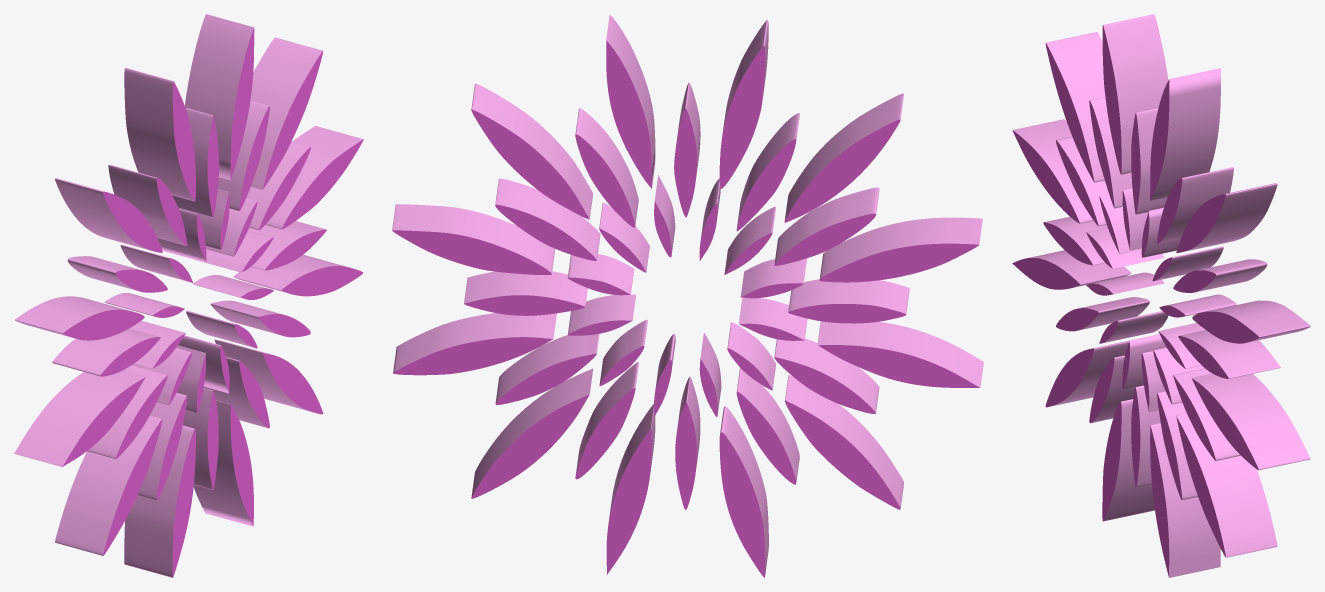
The model's file is svg3.glb.
3 views of the same model, side by side, from view 1: azimuth 30°, elevation 25°; view 2: azimuth 150°, elevation 25°; view 3: azimuth 270°, elevation 25° (orthographic). The views are drawn at different scales.
Visible parts, largest first — view 1: Curve.021, Curve.004, Curve.013, Curve.001, Curve.014, Curve.031, Curve.022, Curve.034, Curve.003, Curve, Curve.032, Curve.009 (+24 smaller); view 2: Curve.034, Curve.001, Curve, Curve.035, Curve.031, Curve.004, Curve.032, Curve.003, Curve.014, Curve.021, Curve.033, Curve.002 (+24 smaller); view 3: Curve.032, Curve.021, Curve.013, Curve.035, Curve.022, Curve.003, Curve.031, Curve.014, Curve, Curve.034, Curve.033, Curve.025 (+24 smaller).
Part boxes in pixels (x1,y1,x2,y2): Curve.021: (185, 14, 254, 180); Curve.004: (55, 415, 162, 555); Curve.013: (124, 67, 195, 201); Curve.001: (14, 370, 145, 466); Curve.014: (124, 425, 195, 577); Curve.031: (250, 37, 323, 189); Curve.022: (193, 400, 253, 526); Curve.034: (265, 126, 363, 229); Curve.003: (55, 178, 162, 252); Curve: (15, 296, 144, 340); Curve.032: (214, 339, 323, 414); Curve.009: (108, 164, 187, 245); Curve.034: (392, 204, 555, 274); Curve.001: (817, 321, 983, 387); Curve: (819, 217, 982, 282); Curve.035: (393, 313, 556, 375); Curve.031: (471, 83, 593, 219); Curve.004: (785, 375, 903, 509); Curve.032: (471, 368, 593, 498); Curve.003: (784, 93, 903, 222); Curve.014: (719, 406, 768, 577); Curve.021: (606, 14, 655, 188); Curve.033: (464, 271, 587, 315); Curve.002: (788, 279, 909, 323); Curve.032: (1176, 413, 1277, 557); Curve.021: (1150, 68, 1220, 200); Curve.013: (1102, 14, 1168, 174); Curve.035: (1191, 373, 1310, 470); Curve.022: (1150, 423, 1220, 577); Curve.003: (1045, 32, 1105, 182); Curve.031: (1176, 183, 1277, 252); Curve.014: (1102, 399, 1154, 521); Curve: (1012, 119, 1093, 223); Curve.034: (1192, 300, 1310, 343); Curve.033: (1178, 330, 1280, 378); Curve.025: (1157, 167, 1233, 243).
Bounding box in the file's own units: 1.27 × 1.35 × 0.7336.
